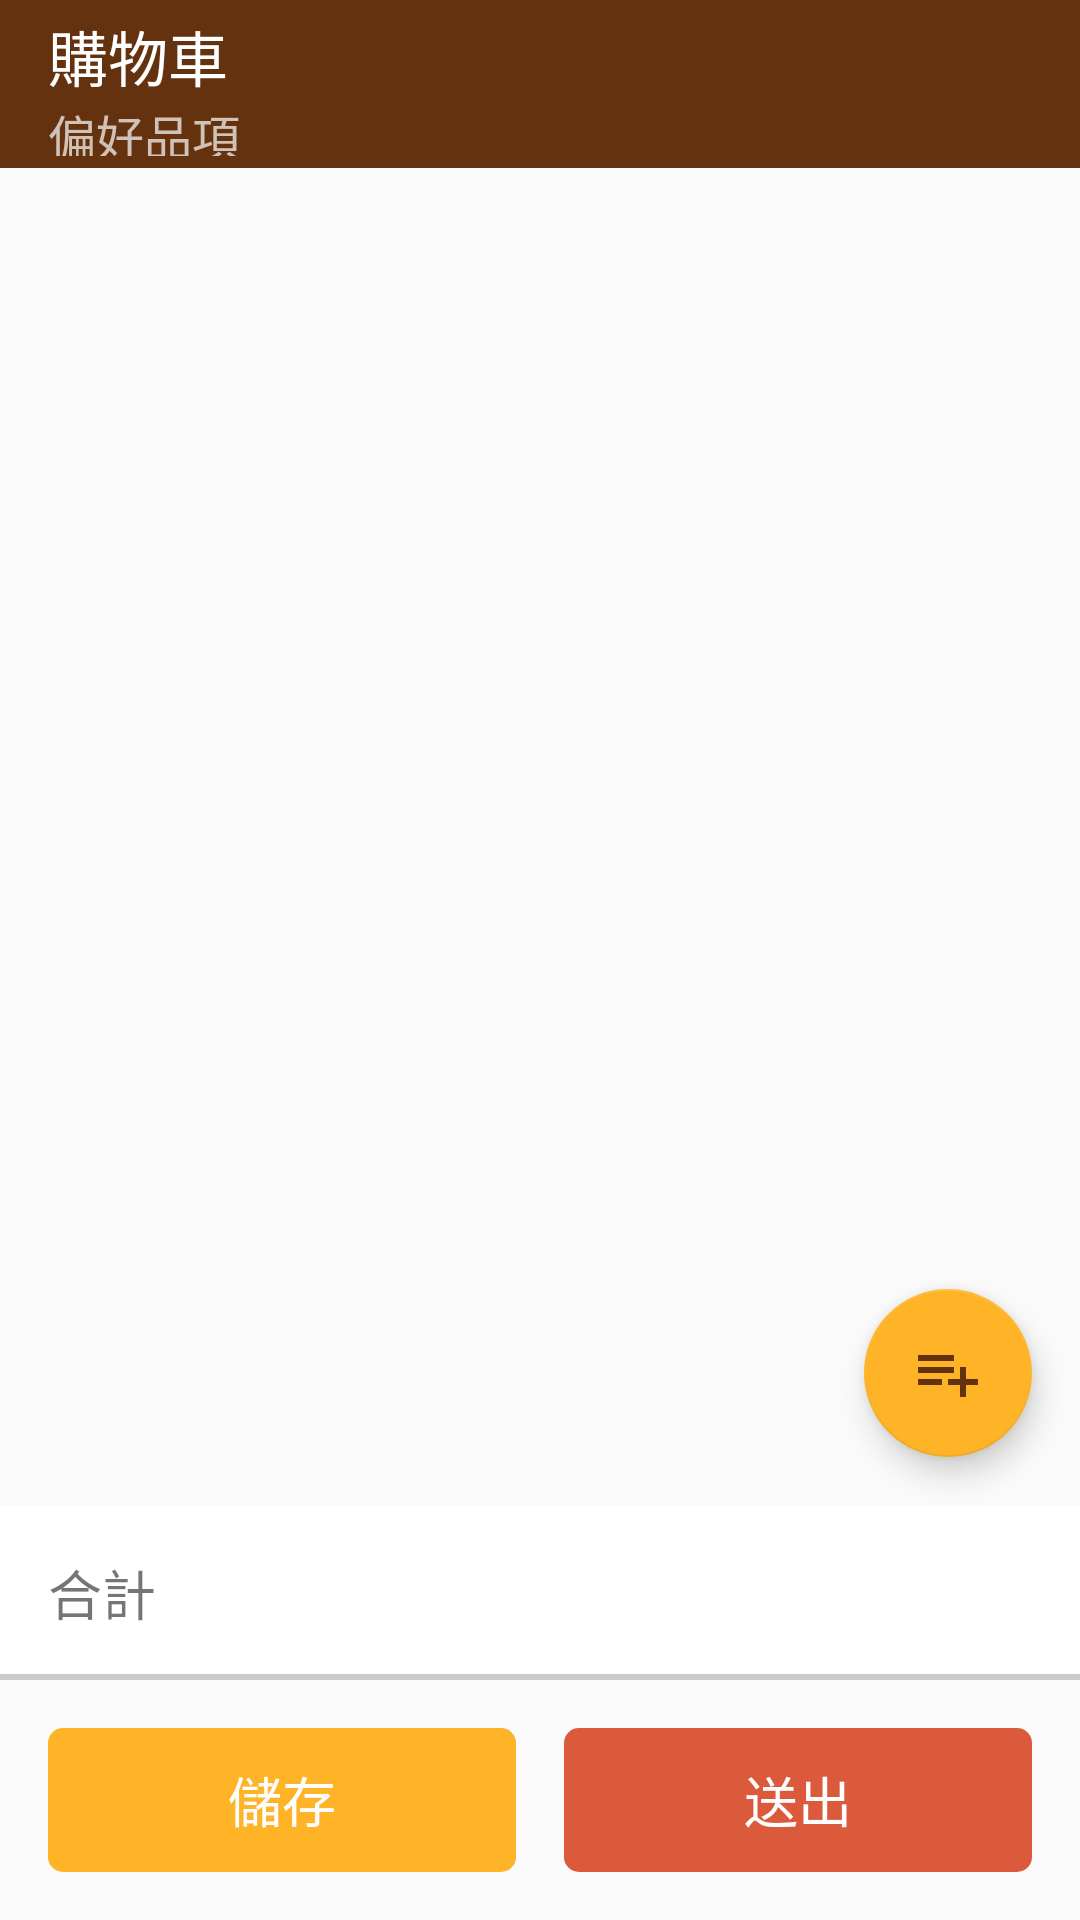

Screen size 1080px x 1920px. Icon name, then its center in pixels as (x,y):
add: (948,1373)
